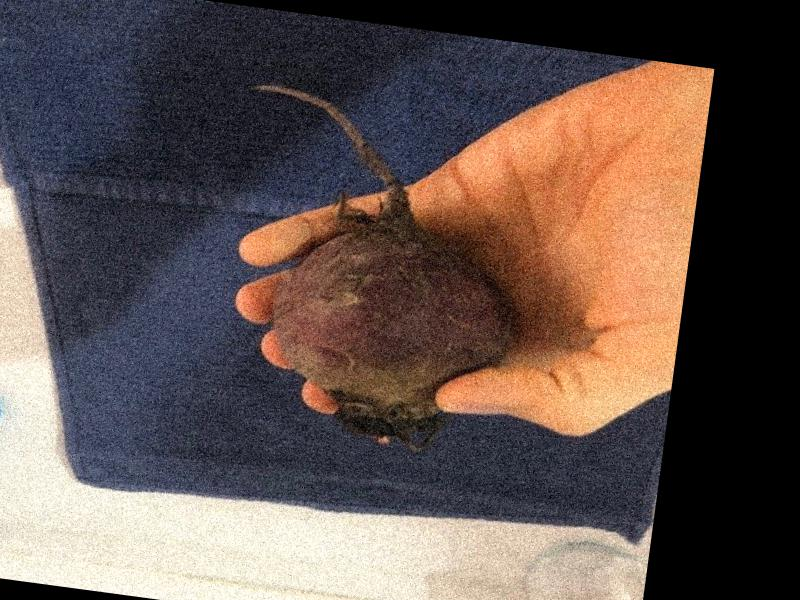Beet: (205, 81, 544, 459)
